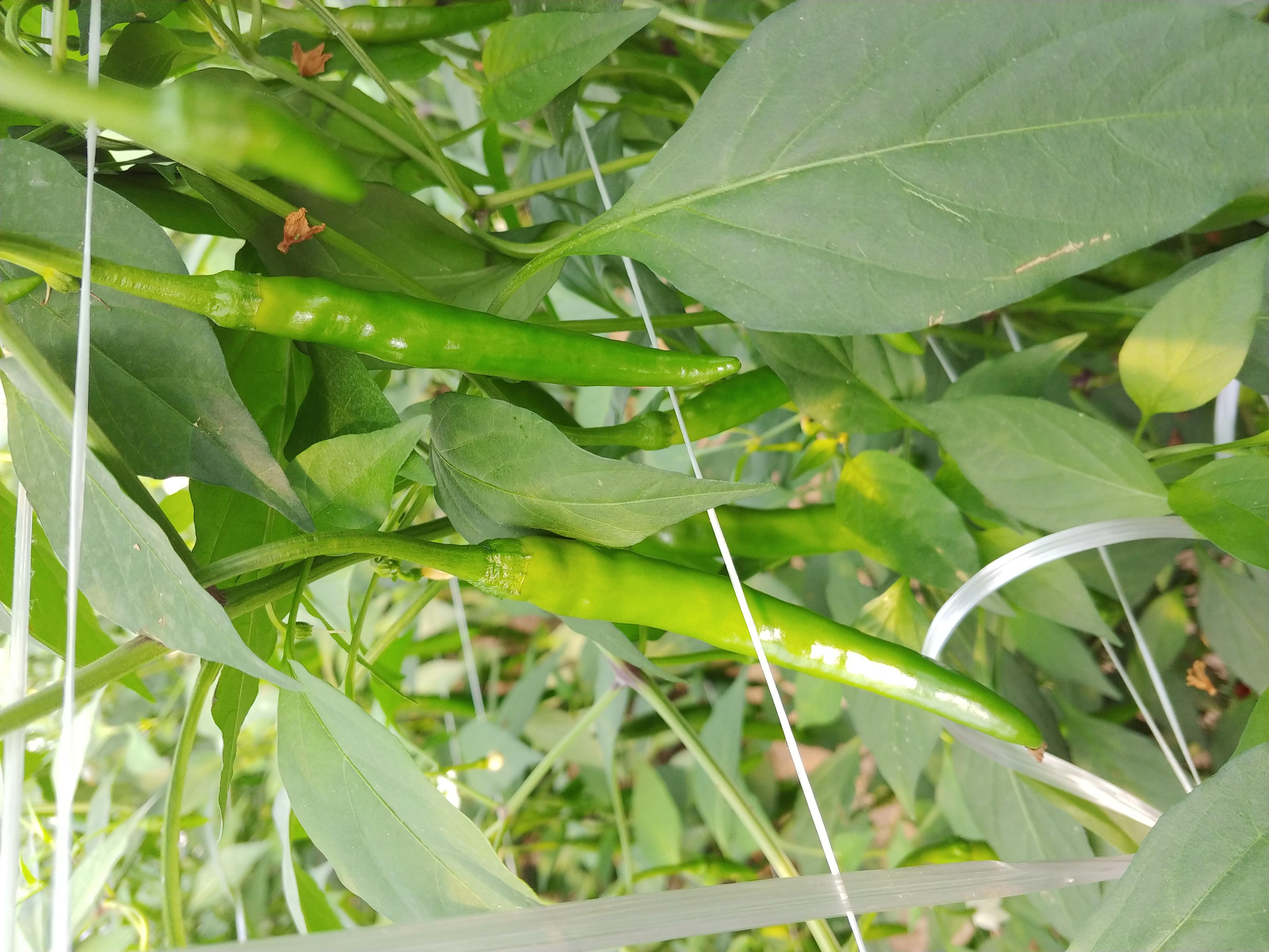Buah Cabai Sehat: (455, 516, 1049, 765), (183, 229, 744, 393)
Daun Cabai Sehat: (602, 0, 1269, 342), (262, 646, 559, 927)
